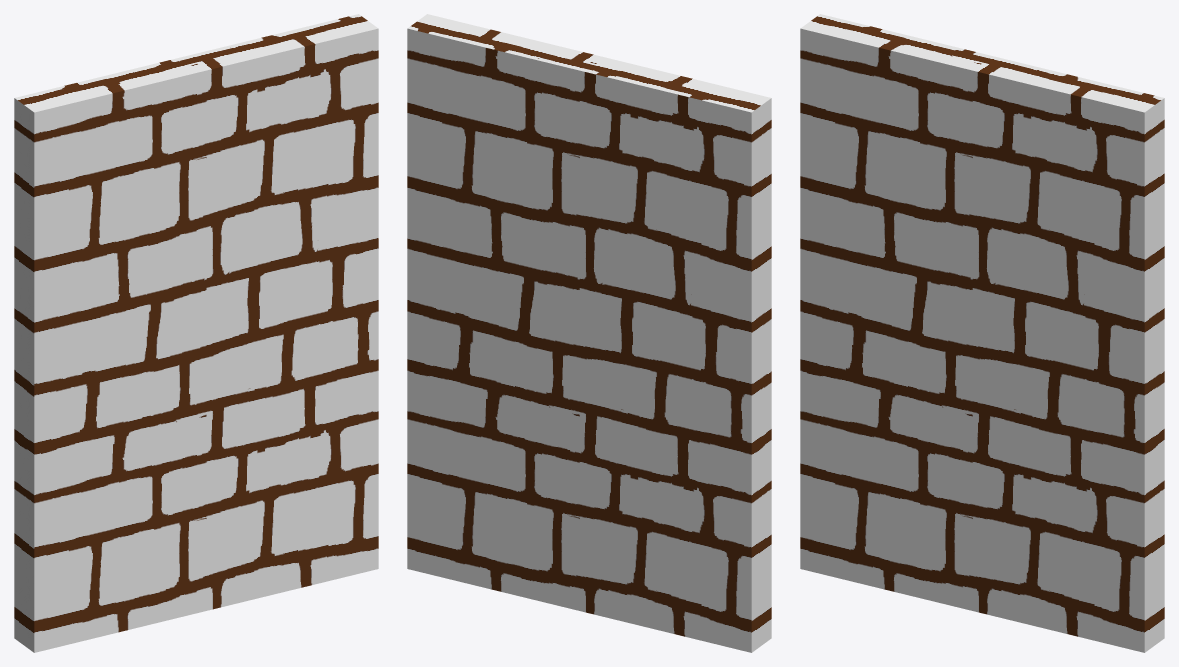
The model's file is Wall_200_300_20.fbx.
The picture shows the model from 3 angles, left to right: view 1: azimuth 30°, elevation 25°; view 2: azimuth 150°, elevation 25°; view 3: azimuth 330°, elevation 25°; orthographic projection.
Visible parts, largest first — view 1: Wall_200_300_20; view 2: Wall_200_300_20; view 3: Wall_200_300_20.
Part boxes in pixels (x1,y1,x2,y2): Wall_200_300_20: (14,14,378,652); Wall_200_300_20: (407,14,771,652); Wall_200_300_20: (800,14,1164,652).
Size of the model in its own units: 200 by 300 by 20.
